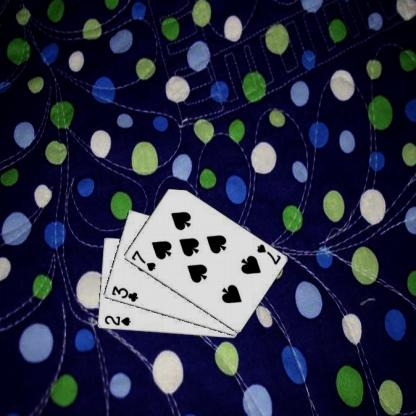2S: (102, 313, 131, 327)
3C: (109, 283, 139, 303)
7S: (254, 241, 282, 266), (128, 248, 157, 272)
